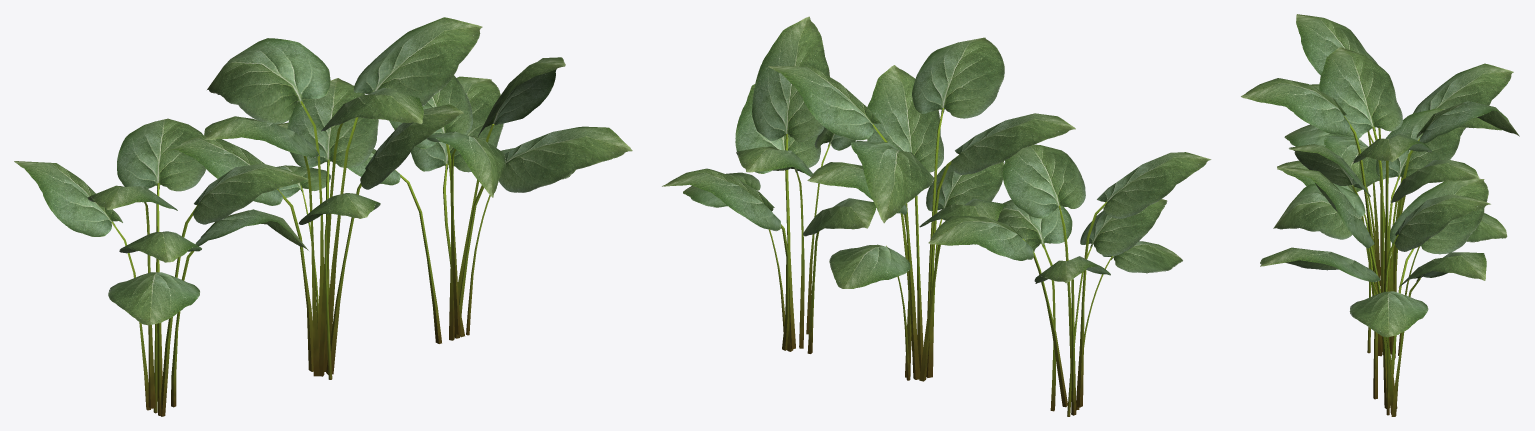
The model's file is D_Plant_010_a.fbx.
3 views of the same model, side by side, from view 1: azimuth 30°, elevation 25°; view 2: azimuth 150°, elevation 25°; view 3: azimuth 270°, elevation 25° (orthographic). The views are drawn at different scales.
Parts seen in each view (by area): view 1: D_Plant_010_a; view 2: D_Plant_010_a; view 3: D_Plant_010_a.
Part boxes in pixels (<box>): D_Plant_010_a: <box>14,17,632,416</box>; D_Plant_010_a: <box>662,16,1211,416</box>; D_Plant_010_a: <box>1241,14,1519,416</box>.
Size of the model in its own units: 2.1 by 1.21 by 1.11.
1 material, 1 textured.
